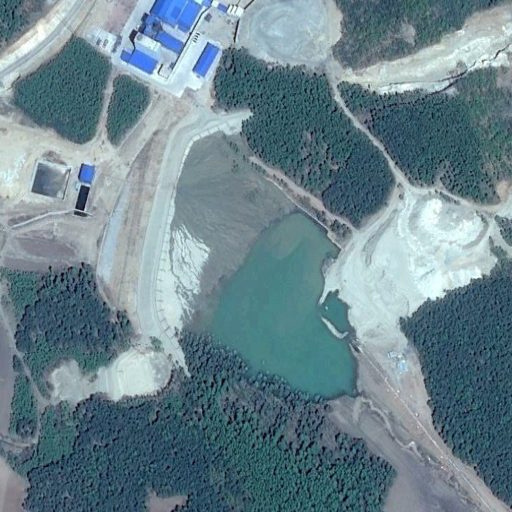tp: (98, 107, 364, 405)
